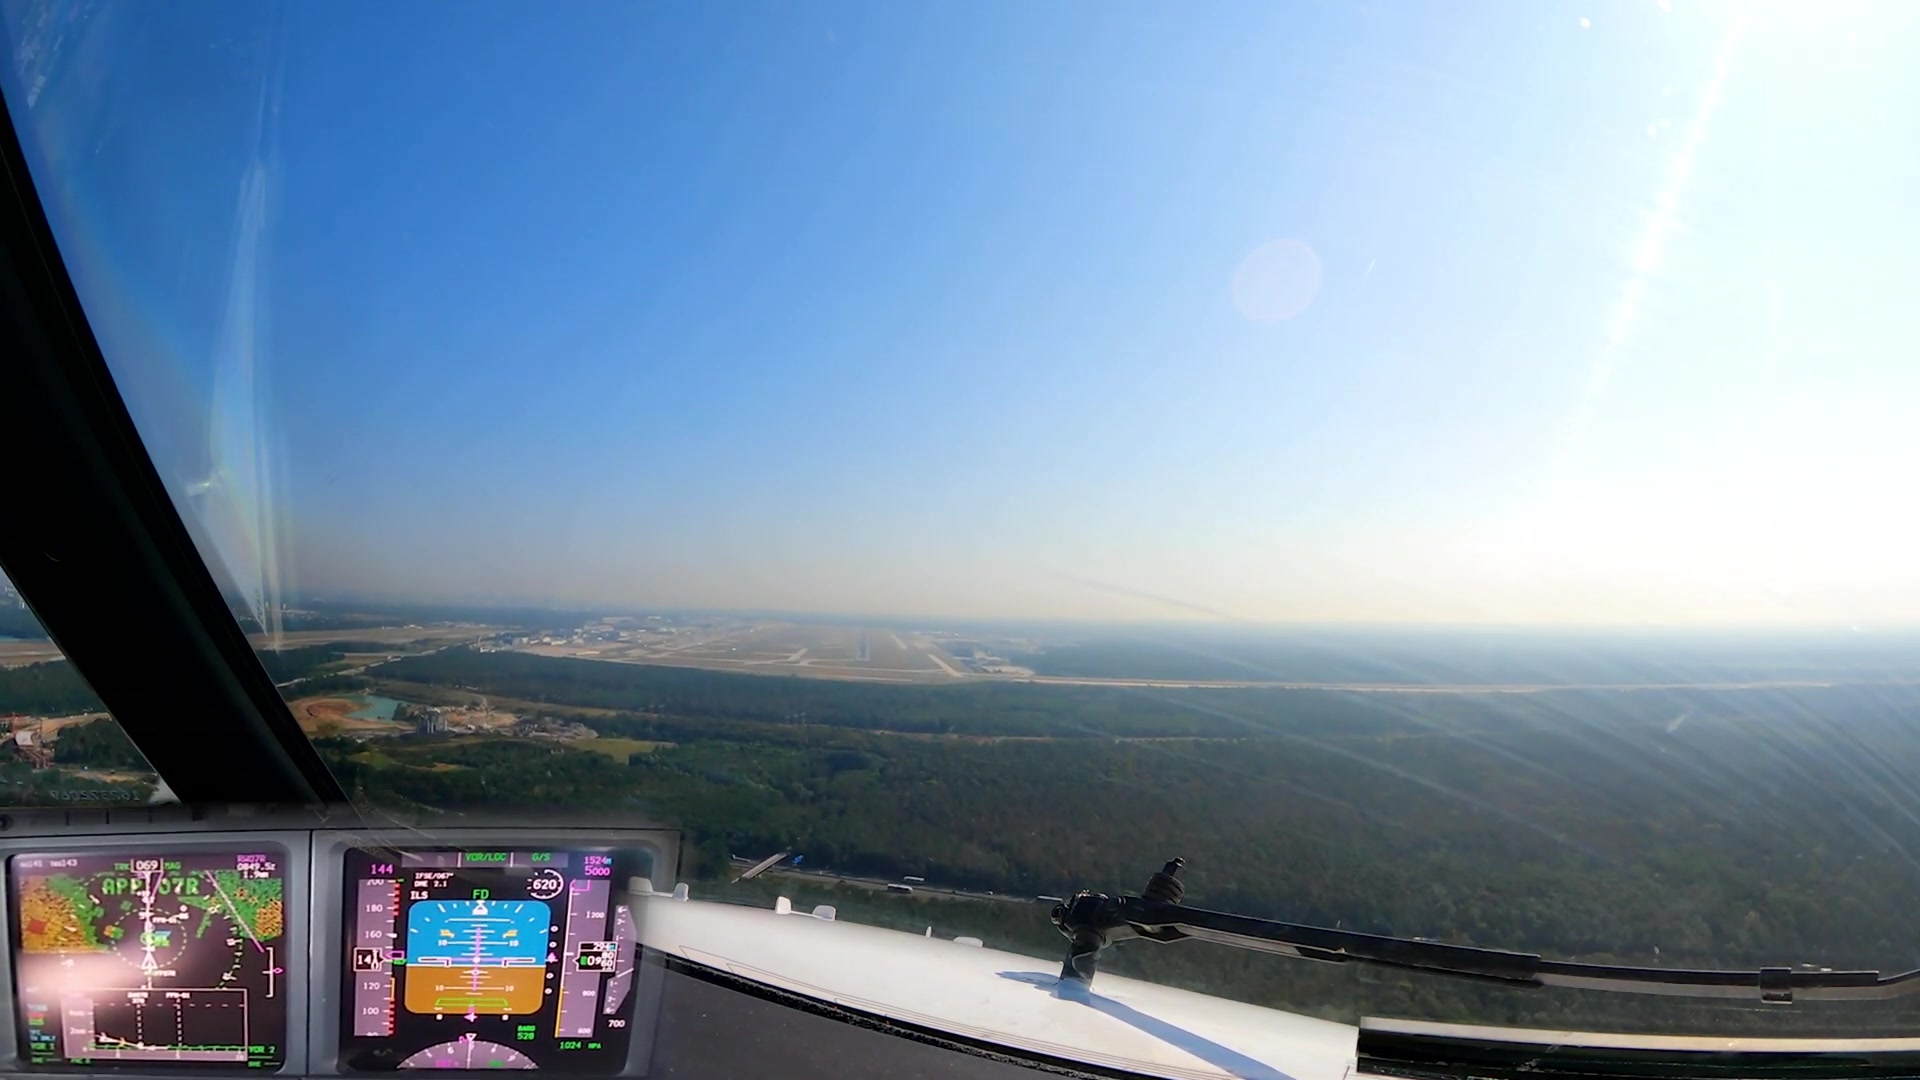runway: (855, 626, 872, 663)
